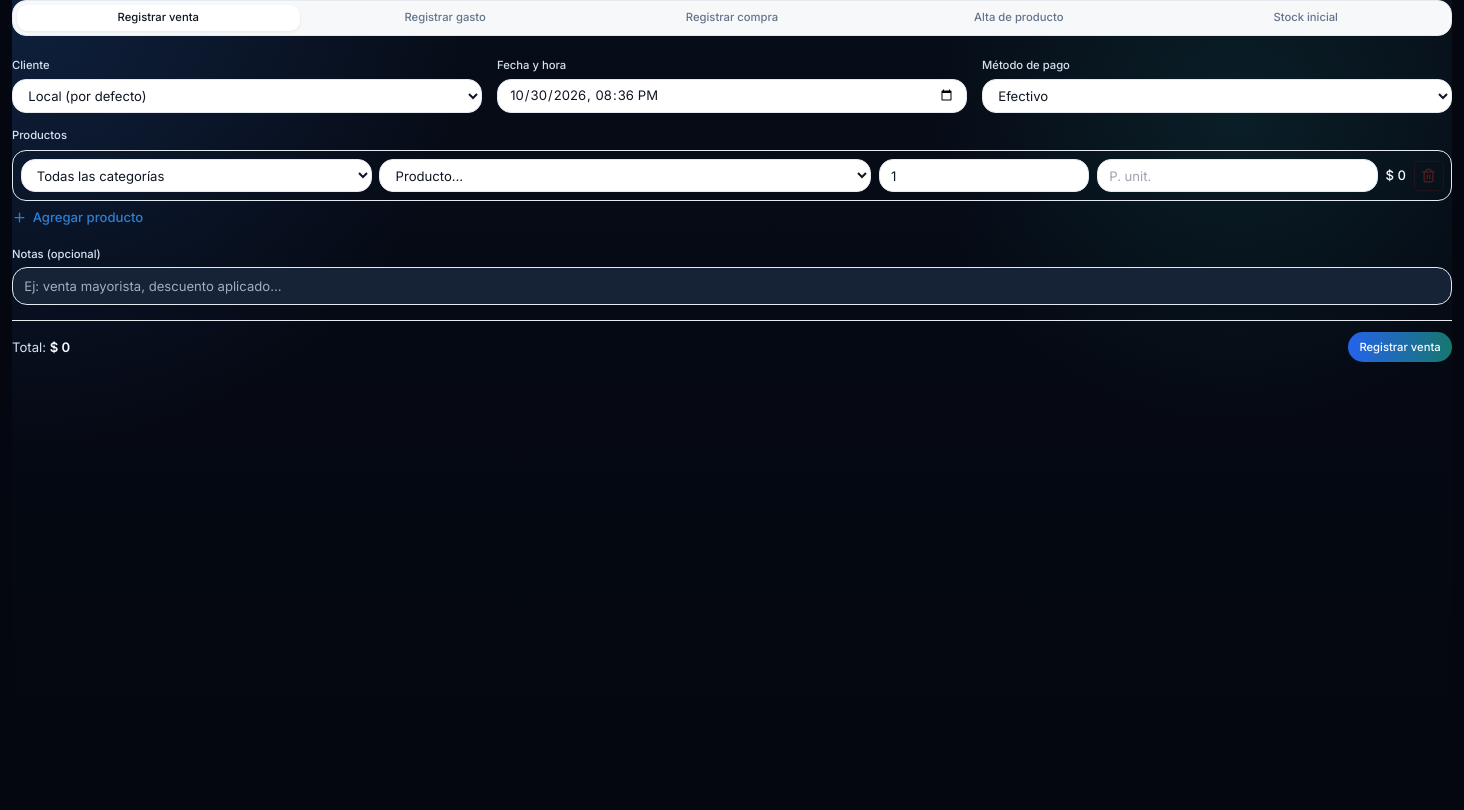
Test: M·2d: una fecha futura del stock inicial no se envía
Click the button "Alta de producto" at point(1019, 18), box [877, 5, 1160, 31]
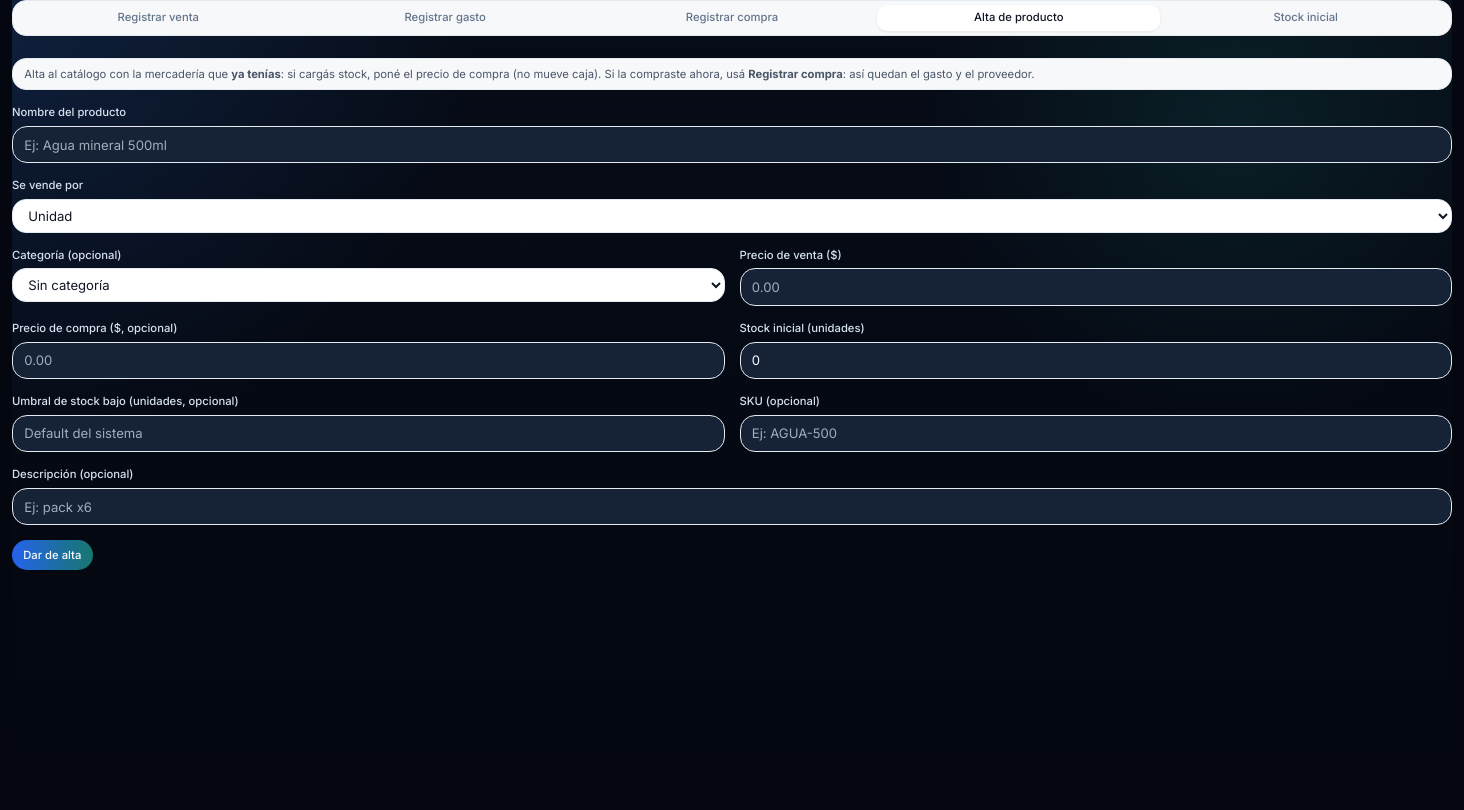
Type "Vela" into the field labelled "Nombre del producto" at point(732, 145), box [12, 126, 1452, 163]
Type "300" into the number field labelled "Precio de venta ($)" at point(1096, 287), box [740, 268, 1452, 306]
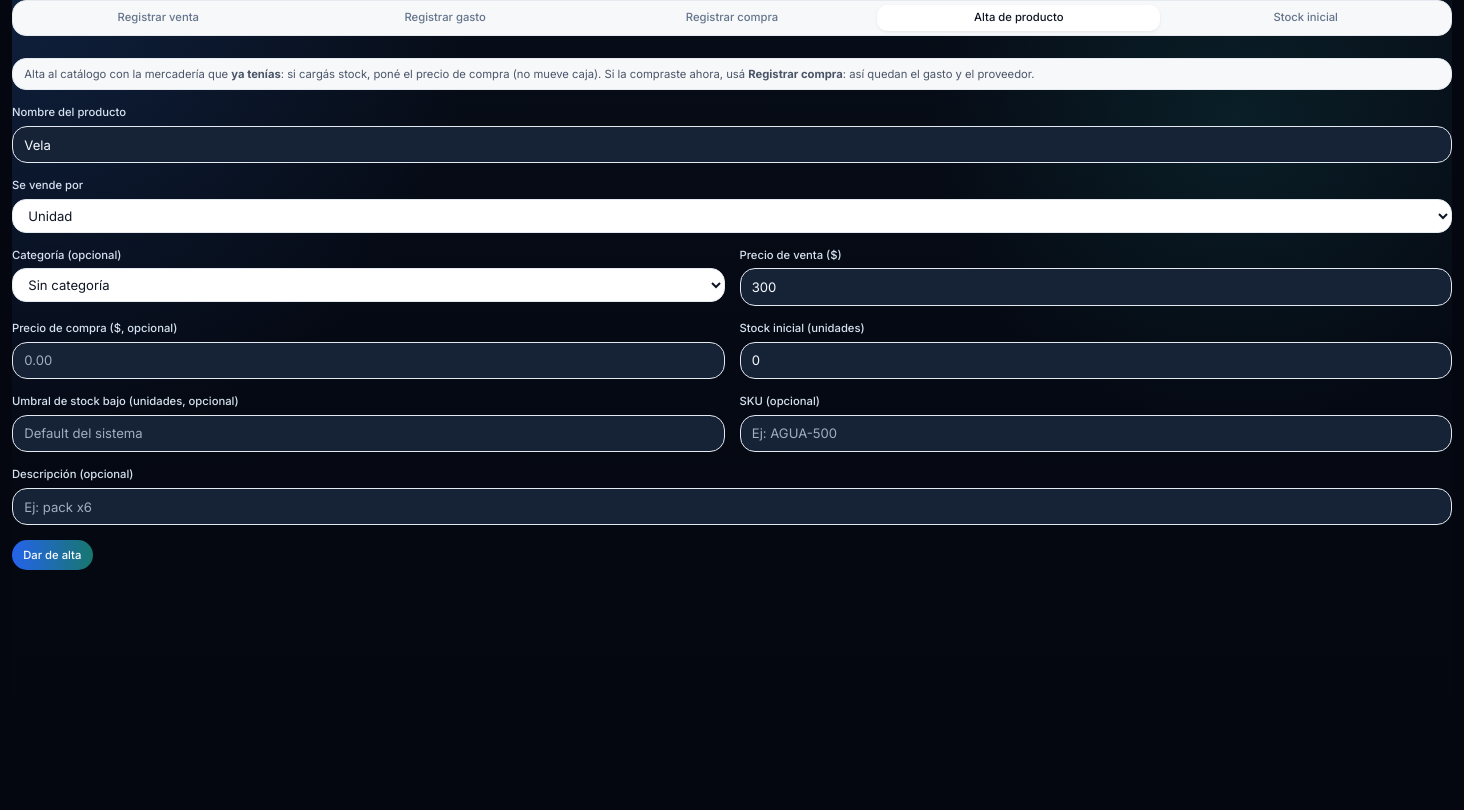
Type "10" into the field labelled "Stock inicial (unidades)" at point(1096, 360), box [740, 342, 1452, 379]
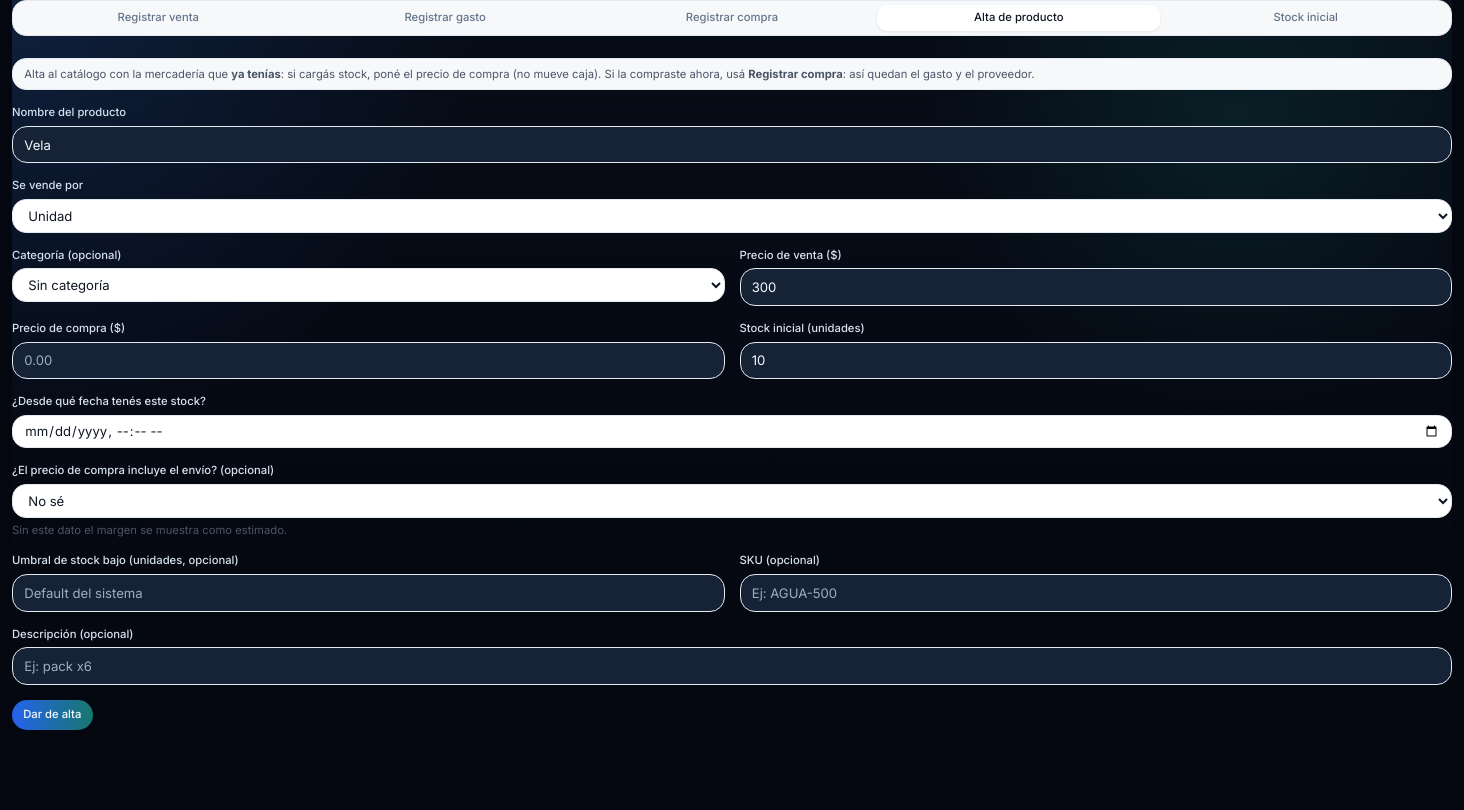
Type "80" into the number field labelled "Precio de compra ($)" at point(368, 360), box [12, 342, 724, 379]
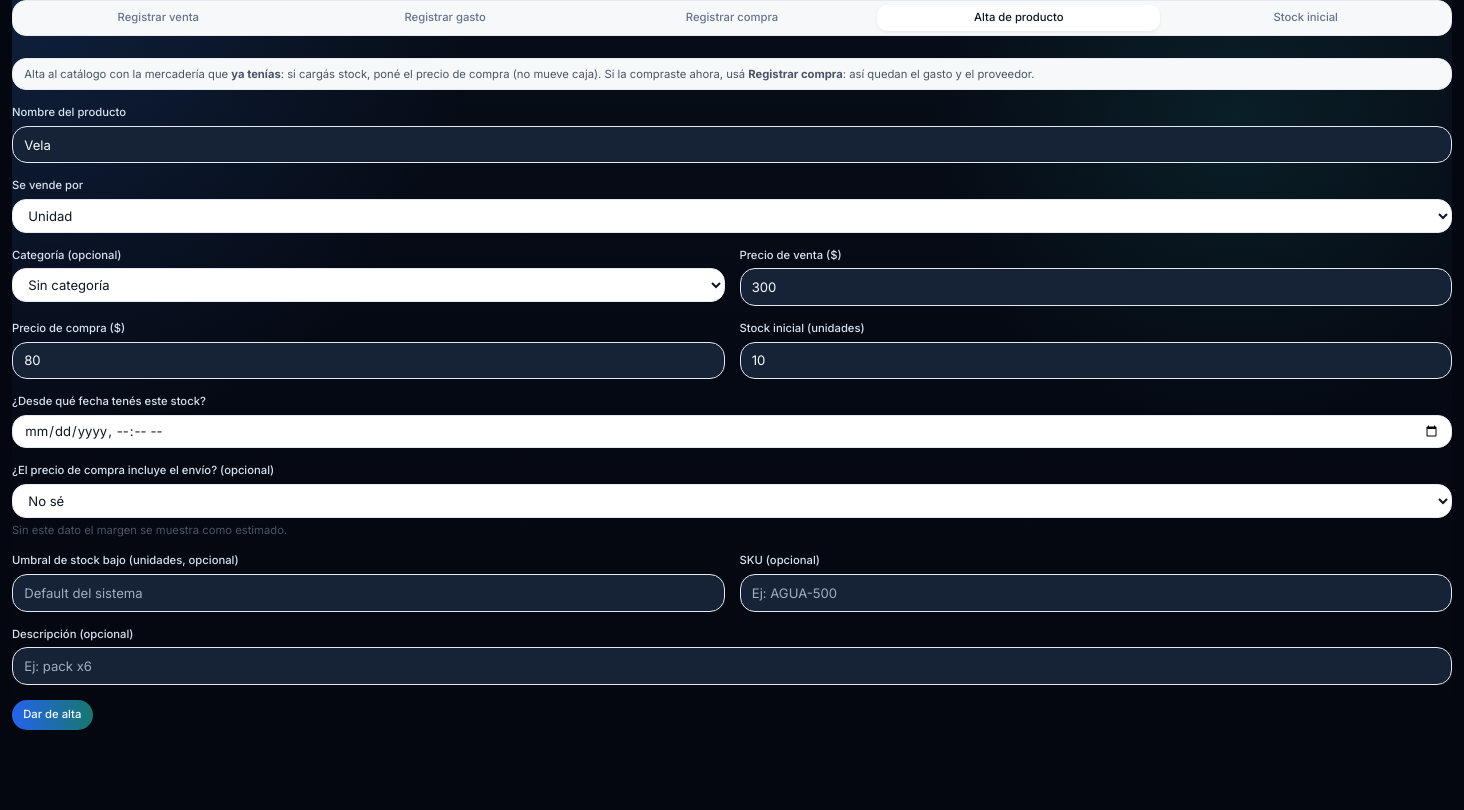
Type "2999-01-01T09:00" into the field named "Fecha del stock inicial" at point(732, 432), box [12, 415, 1452, 448]
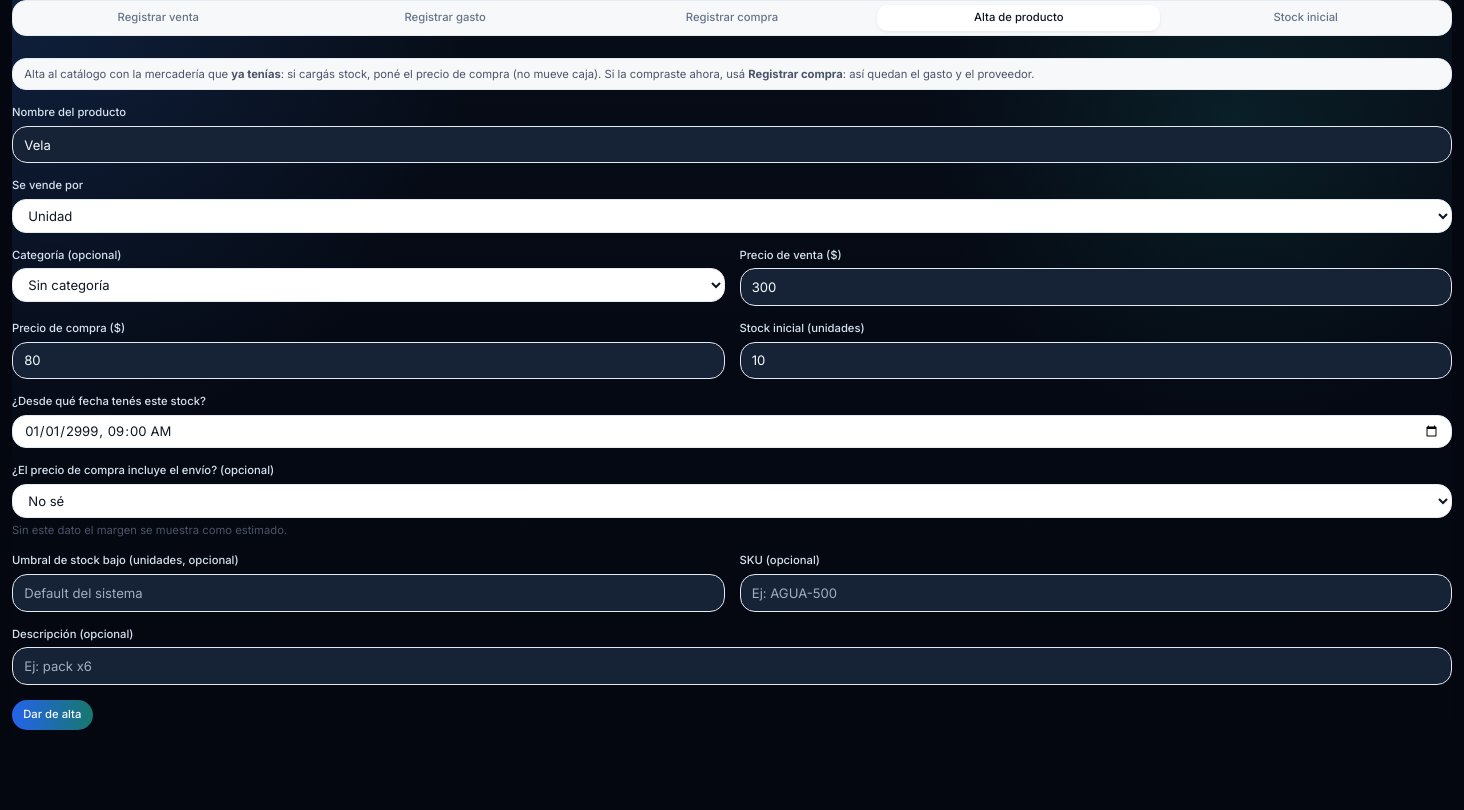
Submit the form named "Dar de alta"
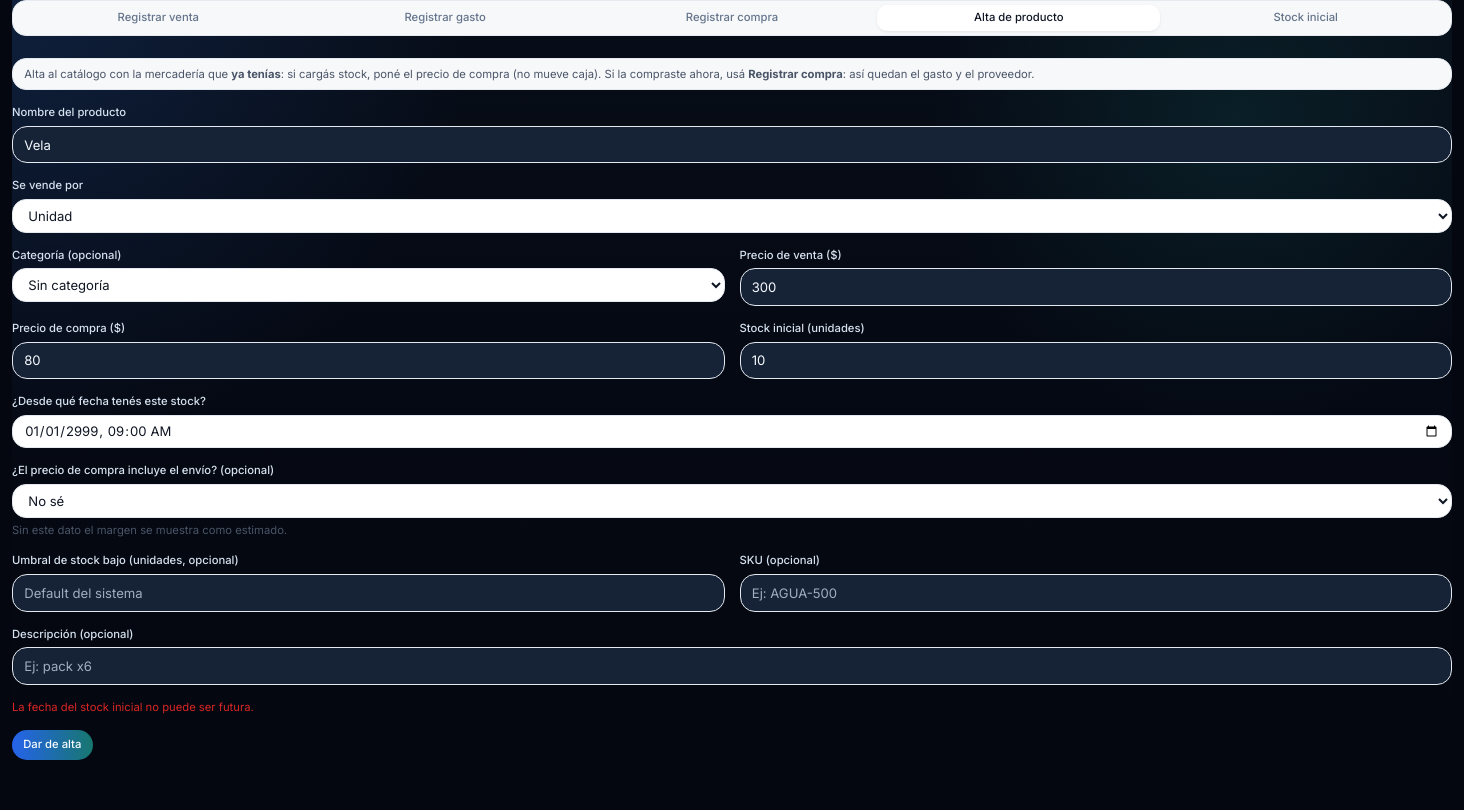
Expected: the text "La fecha del stock inicial no puede ser futura." is shown, [12, 700, 254, 714]
